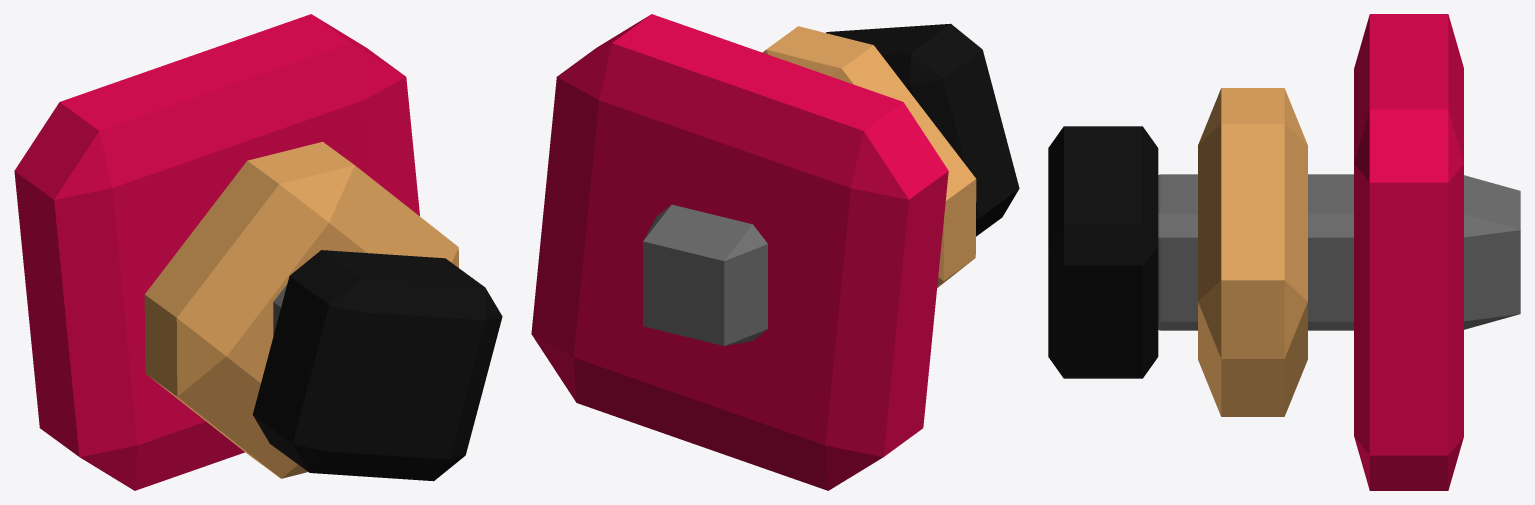
Rendered from HeavyWeight.fbx.
The picture shows the model from 3 angles, left to right: view 1: azimuth 30°, elevation 25°; view 2: azimuth 150°, elevation 25°; view 3: azimuth 270°, elevation 25°; orthographic projection.
Visible parts, largest first — view 1: Cube.003, Cube.001, Cube.002; view 2: Cube.003, Cube, Cube.001, Cube.002; view 3: Cube.003, Cube.002, Cube.001, Cube.
Boxes of the visible parts, x1,y1,x2,y2 form: Cube.003: [14, 14, 419, 490]; Cube.001: [252, 250, 502, 481]; Cube.002: [144, 141, 458, 478]; Cube.003: [531, 14, 948, 490]; Cube: [643, 204, 767, 345]; Cube.001: [826, 23, 1019, 236]; Cube.002: [762, 26, 976, 287]; Cube.003: [1354, 14, 1463, 490]; Cube.002: [1198, 88, 1307, 416]; Cube.001: [1048, 126, 1158, 378]; Cube: [1158, 174, 1520, 330].
Size of the model in its own units: 216 by 216 by 237.
